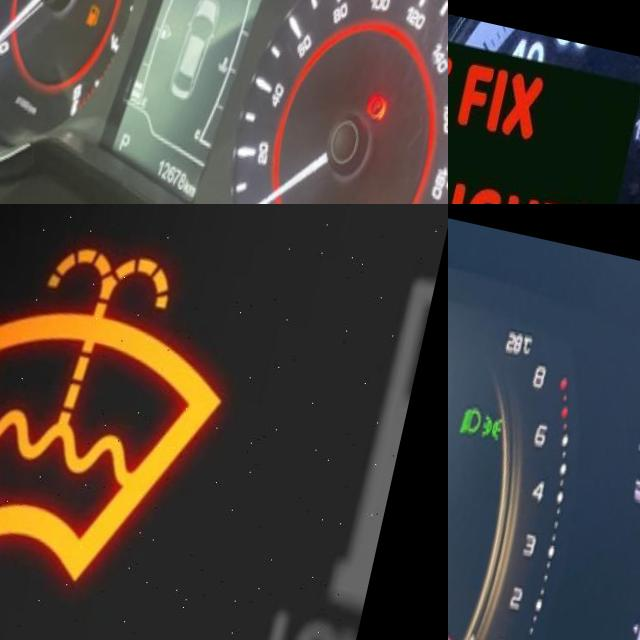Low beam: (463, 384, 493, 426)
